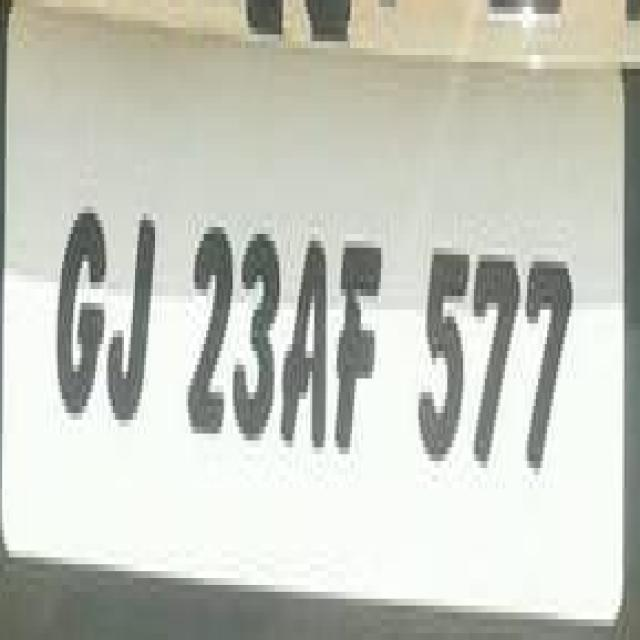license_plate: (0, 55, 611, 619)
